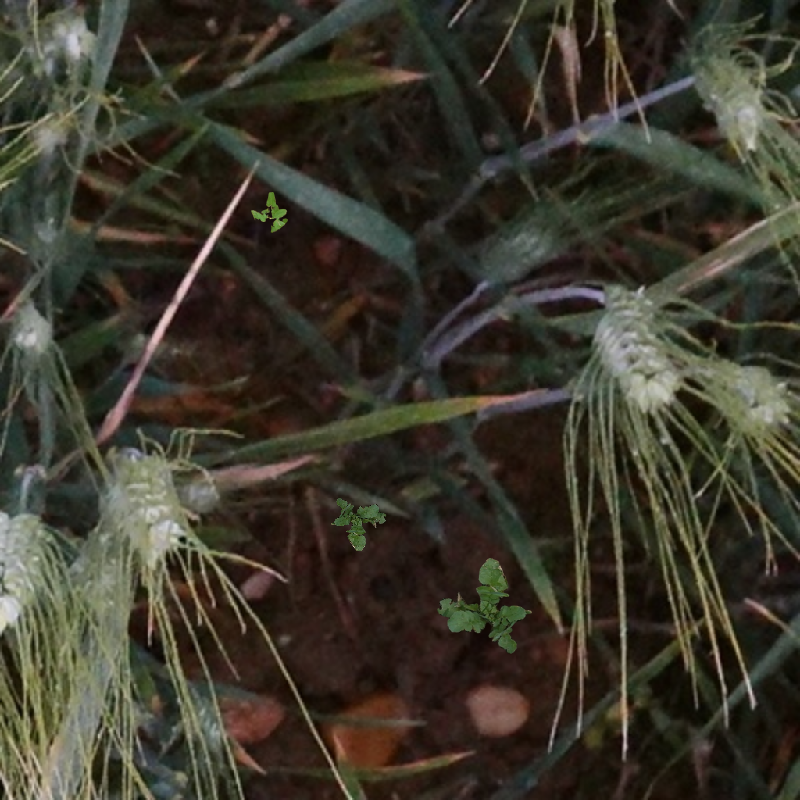spikelet: (590, 281, 684, 425), (96, 436, 193, 571), (681, 44, 779, 150), (1, 3, 103, 89), (457, 216, 571, 289), (707, 352, 796, 439), (1, 505, 53, 642), (64, 525, 132, 626), (178, 680, 239, 764), (13, 103, 83, 172), (1, 301, 54, 373)
weed: (437, 558, 532, 654), (326, 489, 392, 556), (251, 192, 288, 233)
